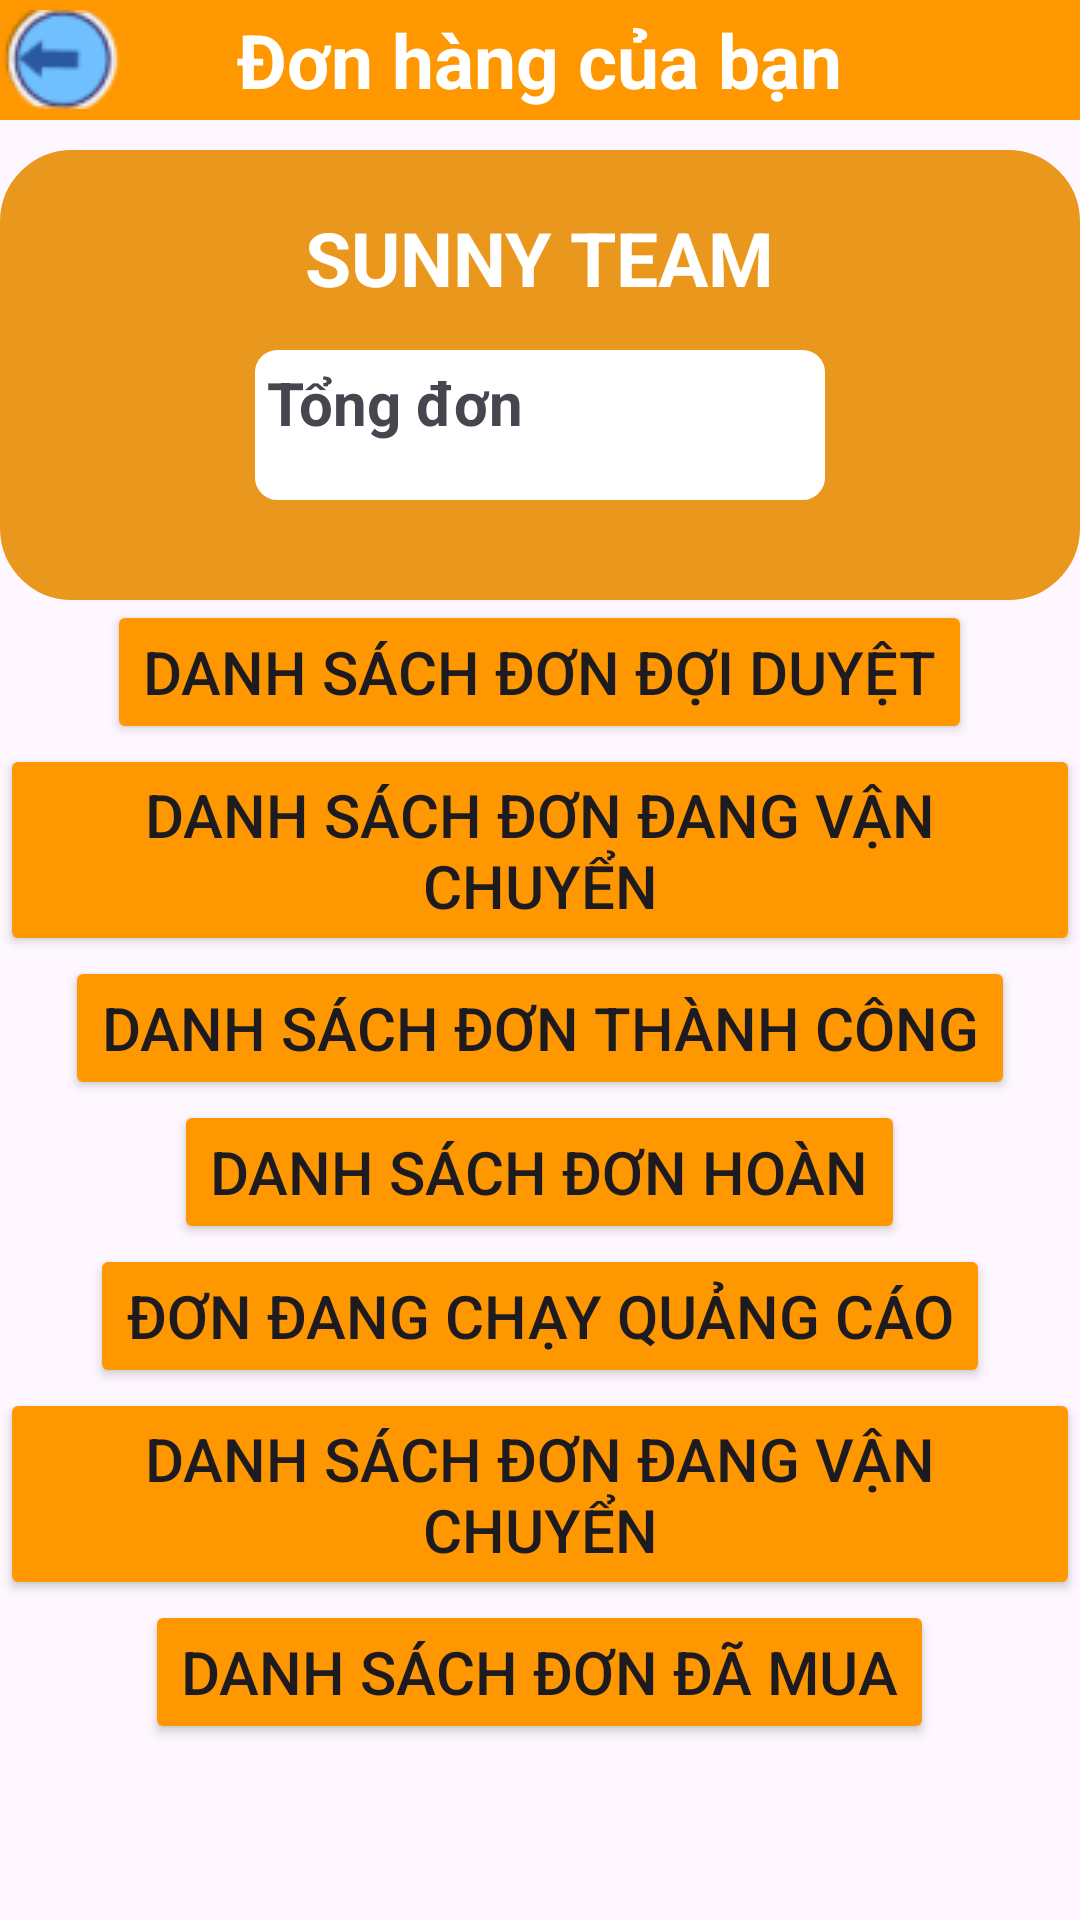

Icons on this 1080 x 1920 Android screen, each with its box as (x1, y1, x2, y2):
thoat: (5, 10, 118, 109)
